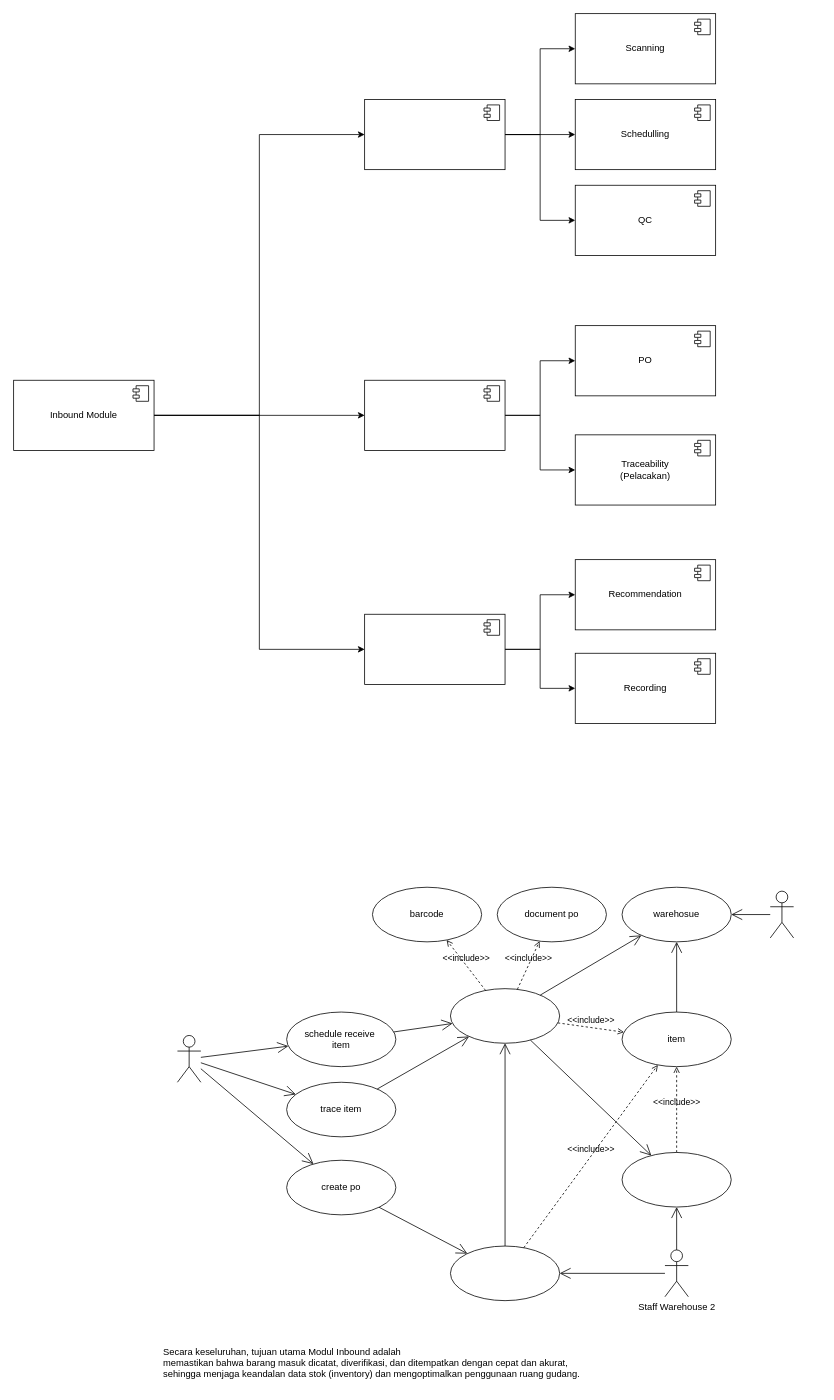
The diagram is 834 pixels wide and 1400 high, and some of its shapes have lost their labels. Each missing label, with the centre of its shape:
Admin Warehouse: (x=189, y=1058)
check: (x=505, y=1015)
Management: (x=434, y=414)
Putaway: (x=434, y=648)
receive item: (x=505, y=1273)
Receiving: (x=434, y=134)
record item: (x=676, y=1179)
Staff Warehouse 1: (x=781, y=914)
